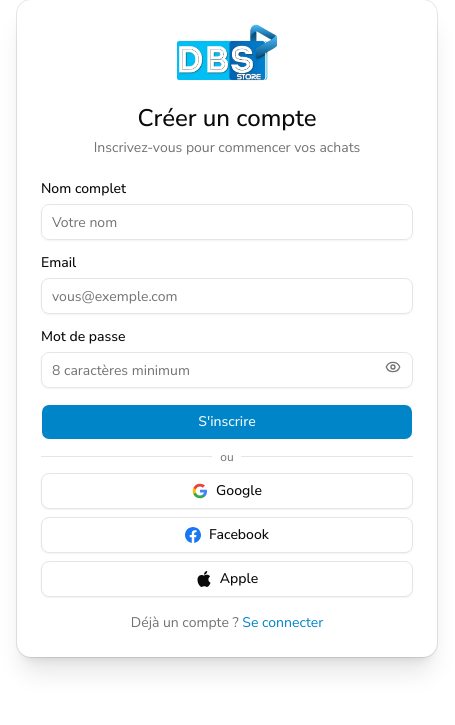
Test case: SignUpPage › shows password strength indicator when typing
The image size is (455, 725).
In the password field labelled "Mot de passe": (227, 370) x1=41 y1=352 x2=413 y2=388, type "abc"
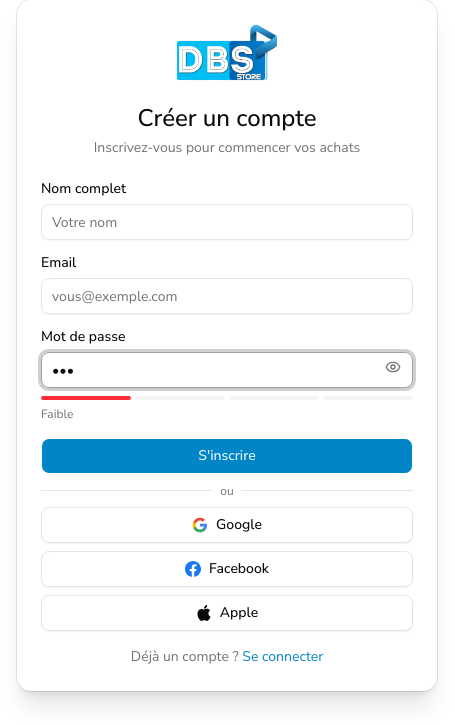
Check: the text "Faible" is shown, box x1=41 y1=406 x2=73 y2=422
